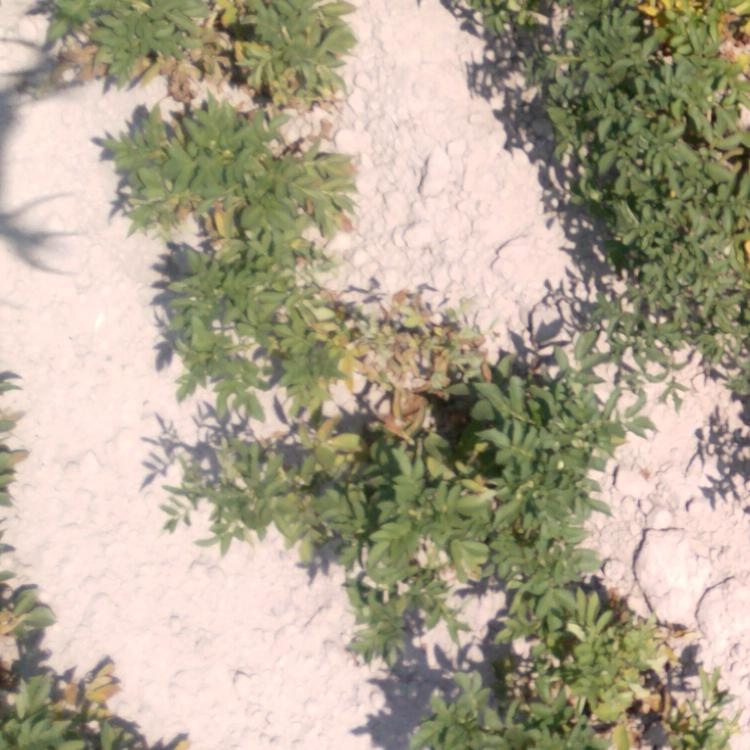healthy: (195, 454, 471, 569), (568, 182, 747, 349), (501, 74, 750, 176), (487, 367, 611, 561), (165, 242, 279, 427), (323, 570, 460, 671), (455, 1, 626, 70), (422, 670, 525, 750), (480, 566, 529, 662), (702, 356, 750, 444)
stressed: (291, 239, 482, 463), (103, 97, 346, 239), (538, 573, 730, 750), (58, 1, 331, 96), (1, 367, 52, 654), (4, 675, 183, 749), (633, 1, 750, 61)
